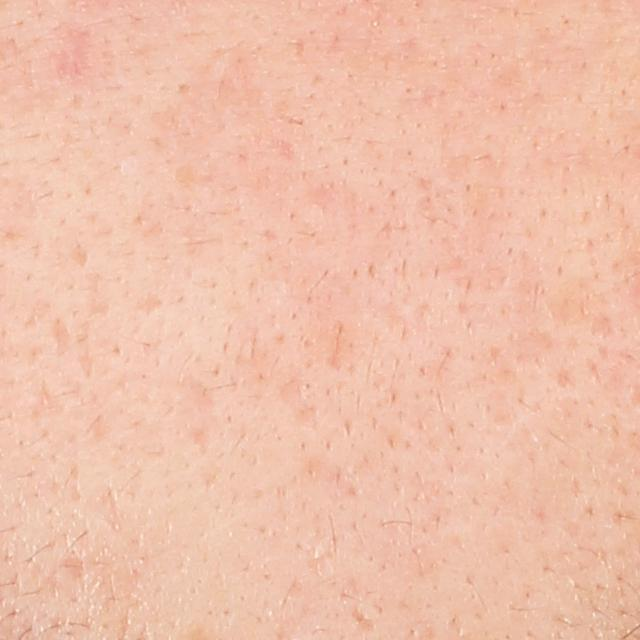atrophic_scar: (279, 373, 315, 429), (48, 312, 76, 362), (324, 319, 347, 372), (130, 290, 167, 319), (353, 604, 375, 638), (193, 419, 213, 455), (70, 239, 88, 267)
